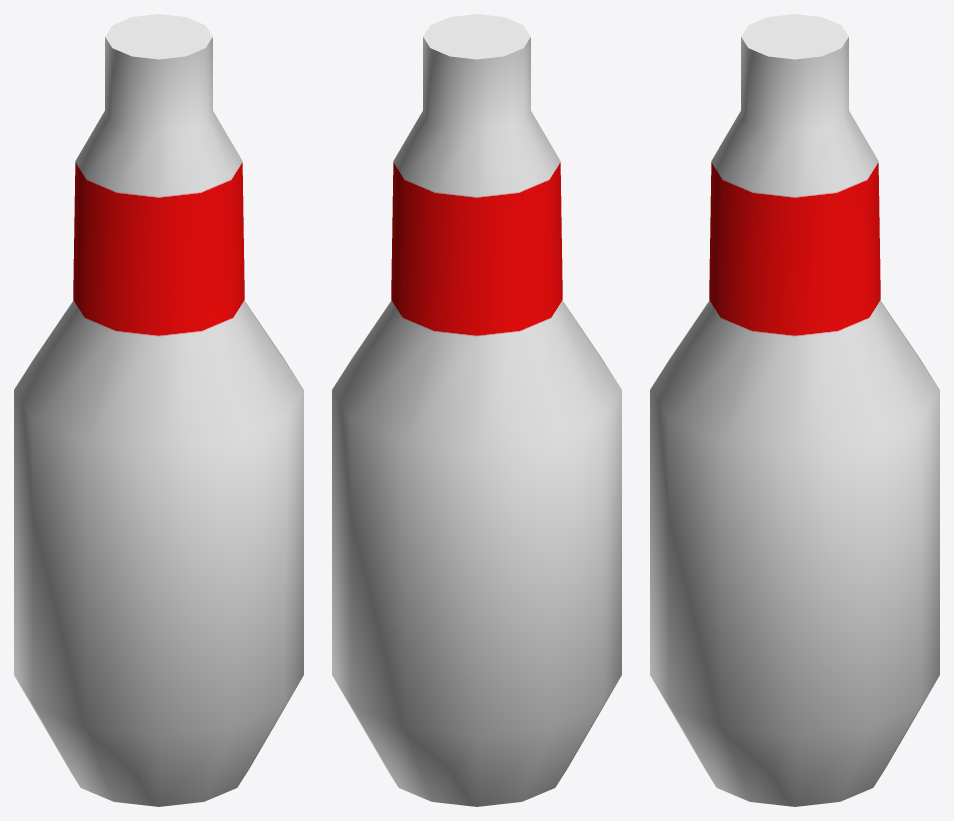
Rendered from pin.fbx.
3 views of the same model, side by side, from view 1: azimuth 30°, elevation 25°; view 2: azimuth 150°, elevation 25°; view 3: azimuth 270°, elevation 25° (orthographic).
Parts seen in each view (by area): view 1: cylinder1; view 2: cylinder1; view 3: cylinder1.
Boxes of the visible parts, x1,y1,x2,y2 form: cylinder1: (14,14,303,806); cylinder1: (332,14,621,806); cylinder1: (650,14,939,806).
Bounding box in the file's own units: 1.29 × 3.58 × 1.29.
1 material, 1 textured.
